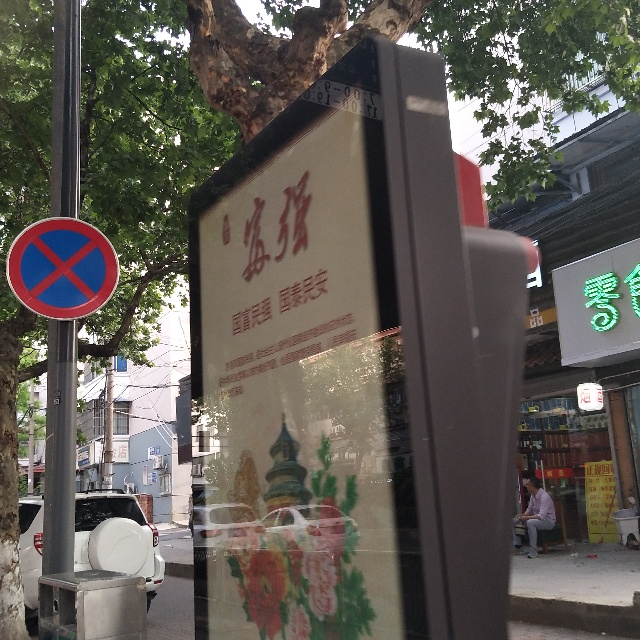stop: (16, 218, 111, 311)
